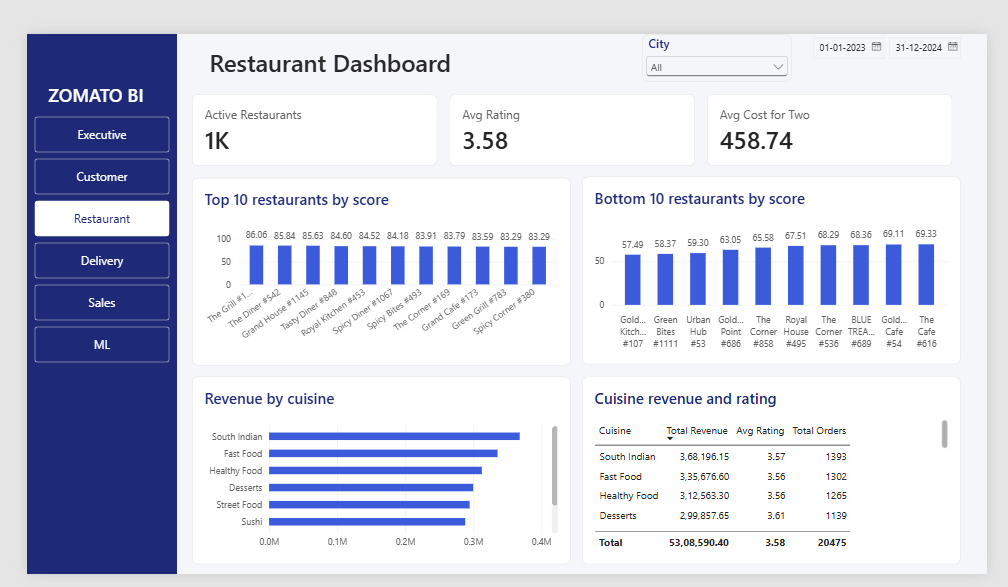

This screenshot's page, from the dashboard's own definition file:
{"tool":"powerbi","page":{"name":"Restaurant","canvas":[1280,720],"ordinal":2},"visuals":[{"type":"slicer","fields":{"Values":["DateTable.Date"]},"box":[1040,0,220,63.3],"z":0},{"type":"slicer","fields":{"Values":["cities.City"]},"box":[820,0,200,63.8],"z":1000},{"type":"clusteredBarChart","fields":{"Category":["cities.City"],"Y":["orders.Total Orders"]},"box":[45.7,871.4,575.7,208.6],"z":2000},{"type":"shape","box":[0,0,200,720],"z":3000},{"type":"textbox","box":[8.3,45,183.3,73.3],"z":4000},{"type":"textbox","box":[243.3,16.7,396.7,46.7],"z":5000},{"type":"pageNavigator","box":[10,110,180,330],"z":6000},{"type":"cardVisual","fields":{"Data":["orders.Active Restaurants"]},"box":[220,80,327,96],"z":7000},{"type":"cardVisual","fields":{"Data":["orders.Avg Cost for Two"]},"box":[906,80,327,96],"z":8000},{"type":"cardVisual","fields":{"Data":["customer_feedback.Avg Rating"]},"box":[563,80,327,96],"z":9000},{"type":"clusteredBarChart","title":"Revenue by cuisine","fields":{"Category":["restaurants.Cuisine"],"Y":["orders.Total Revenue"]},"box":[220,456,505,250],"z":10000},{"type":"tableEx","title":"Cuisine revenue and rating","fields":{"Values":["restaurants.Cuisine","orders.Total Revenue","customer_feedback.Avg Rating","orders.Total Orders"]},"box":[740,456,505,250],"z":11000},{"type":"clusteredColumnChart","title":"Top 10 restaurants by score","fields":{"Category":["restaurants.RestaurantLabel"],"Y":["orders.Composite Score"]},"box":[220,192,505,250],"z":12000},{"type":"clusteredColumnChart","title":"Bottom 10 restaurants by score","fields":{"Category":["restaurants.RestaurantLabel"],"Y":["orders.Composite Score"]},"box":[740,190,505,250],"z":13000}]}

Visuals, with their boxes on the page's 1280x720 design canvas (x1, y1, x2, y2). These are canvas units, not pixel positions in the 1008x587 screenshot, which may show the page scaled, cropped or inside an application window:
slicer - DateTable.Date: <box>1040,0,1260,63</box>
slicer - cities.City: <box>820,0,1020,64</box>
clusteredBarChart - cities.City x orders.Total Orders: <box>46,871,621,1080</box>
shape: <box>0,0,200,720</box>
textbox: <box>8,45,192,118</box>
textbox: <box>243,17,640,63</box>
pageNavigator: <box>10,110,190,440</box>
cardVisual - orders.Active Restaurants: <box>220,80,547,176</box>
cardVisual - orders.Avg Cost for Two: <box>906,80,1233,176</box>
cardVisual - customer_feedback.Avg Rating: <box>563,80,890,176</box>
"Revenue by cuisine" clusteredBarChart: <box>220,456,725,706</box>
"Cuisine revenue and rating" tableEx: <box>740,456,1245,706</box>
"Top 10 restaurants by score" clusteredColumnChart: <box>220,192,725,442</box>
"Bottom 10 restaurants by score" clusteredColumnChart: <box>740,190,1245,440</box>
